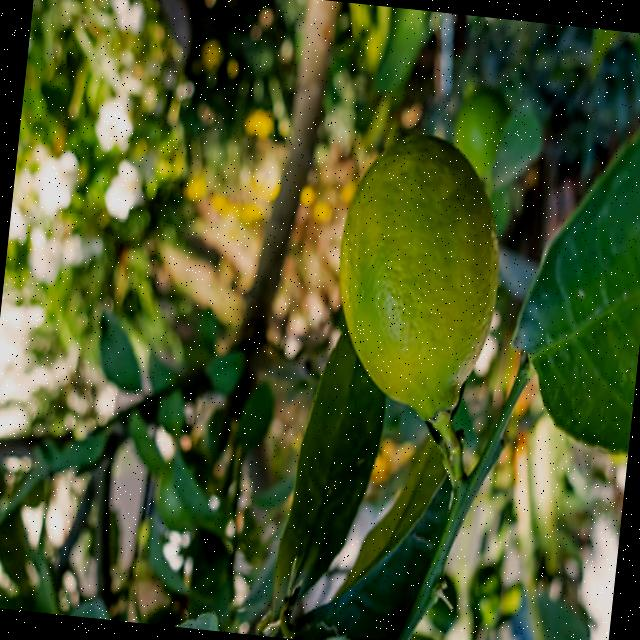Unripe: (322, 126, 512, 424)
